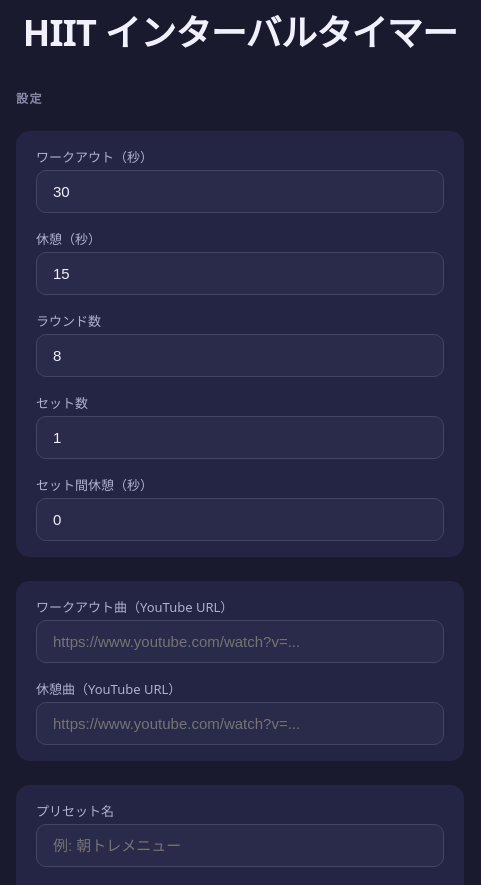
Test: App 統合テスト › プリセットを保存できる
Step 1. Type "朝トレ" into the field labelled "プリセット名" → (240, 846), box [36, 824, 444, 867]
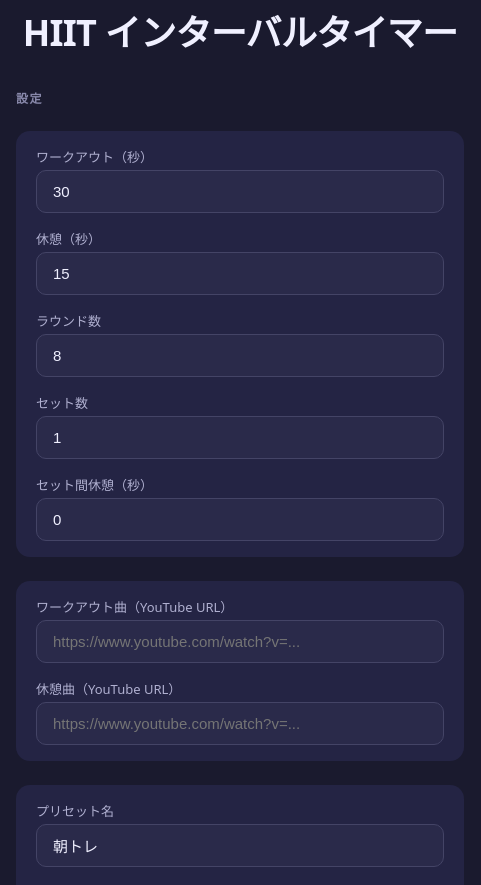
Step 2. Replace the text in the number field labelled "ワークアウト（秒）" with "42" → (240, 192), box [36, 170, 444, 213]
(page scrolled)
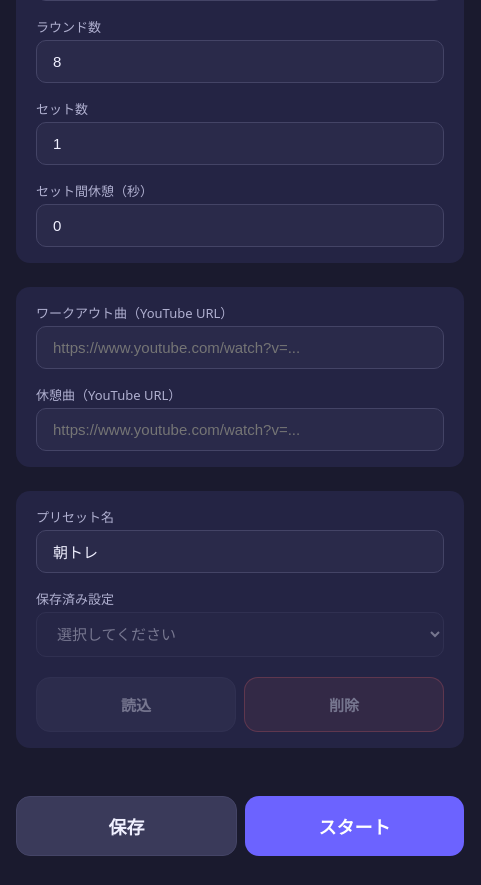
Step 3. Click the button "保存" → (126, 826), box [16, 796, 237, 856]
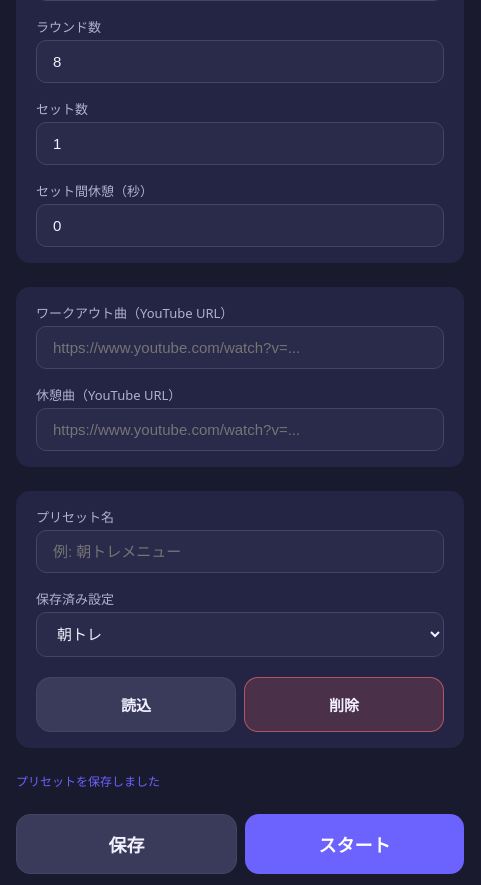
Now the text "プリセットを保存しました" is shown, box [16, 773, 160, 790]
